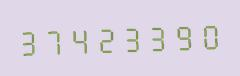four: (69, 21, 94, 56)
nine: (173, 18, 198, 53)
seven: (43, 22, 68, 57)
three: (121, 19, 146, 55), (17, 23, 42, 58), (147, 19, 172, 54)
two: (95, 20, 120, 55)
zero: (199, 17, 224, 52)
